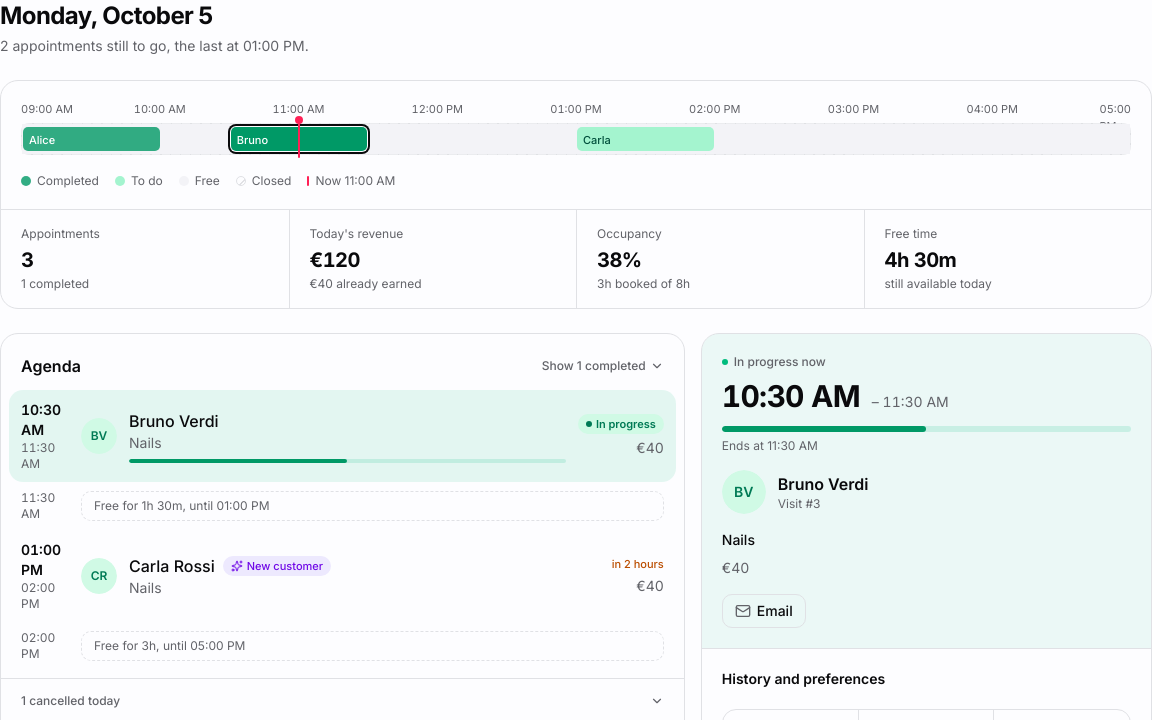
WidgetToday › shows a picked appointment's customer history in the focus panel
Expected: the text "New customer" is shown, x1=223 y1=556 x2=331 y2=576
Click the button "Carla Rossi": [41, 550] box x1=9 y1=530 x2=676 y2=622
(page scrolled)
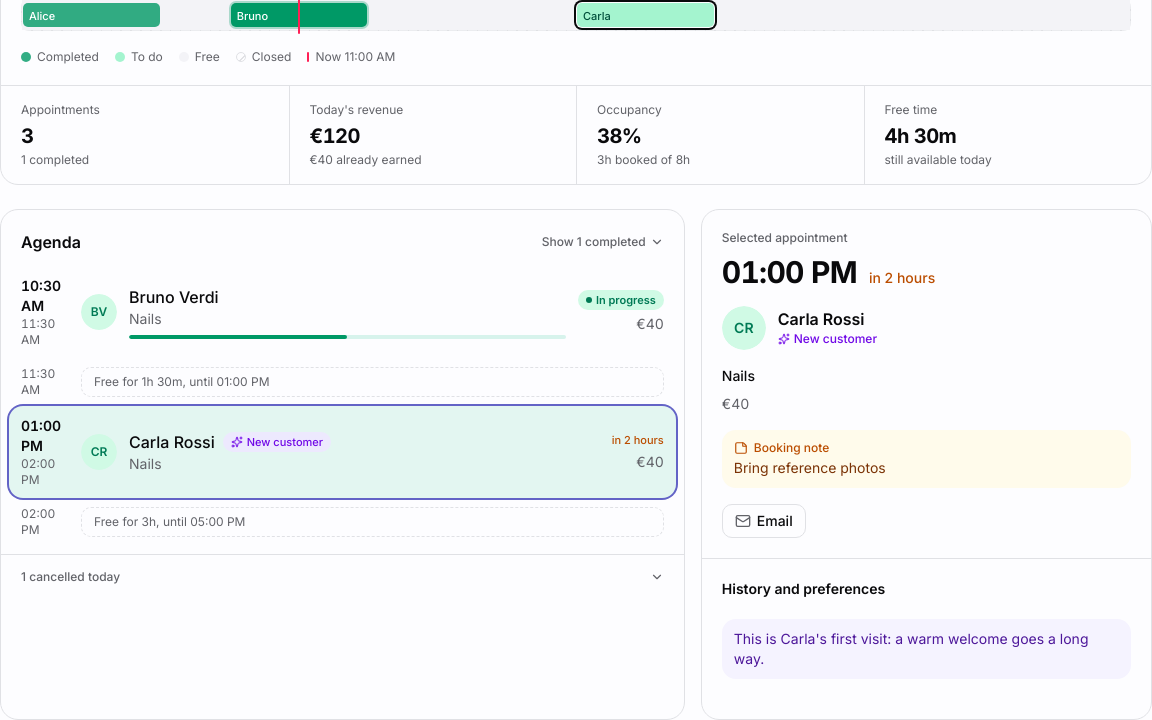
Expected: the text "Carla Rossi" below "Selected appointment" is shown, x1=778 y1=309 x2=864 y2=329
Expected: the text "Bring reference photos" is shown, x1=734 y1=459 x2=886 y2=476
Expected: the text "This is Carla's first visit: a warm welcome goes a long way." is shown, x1=722 y1=619 x2=1131 y2=679
